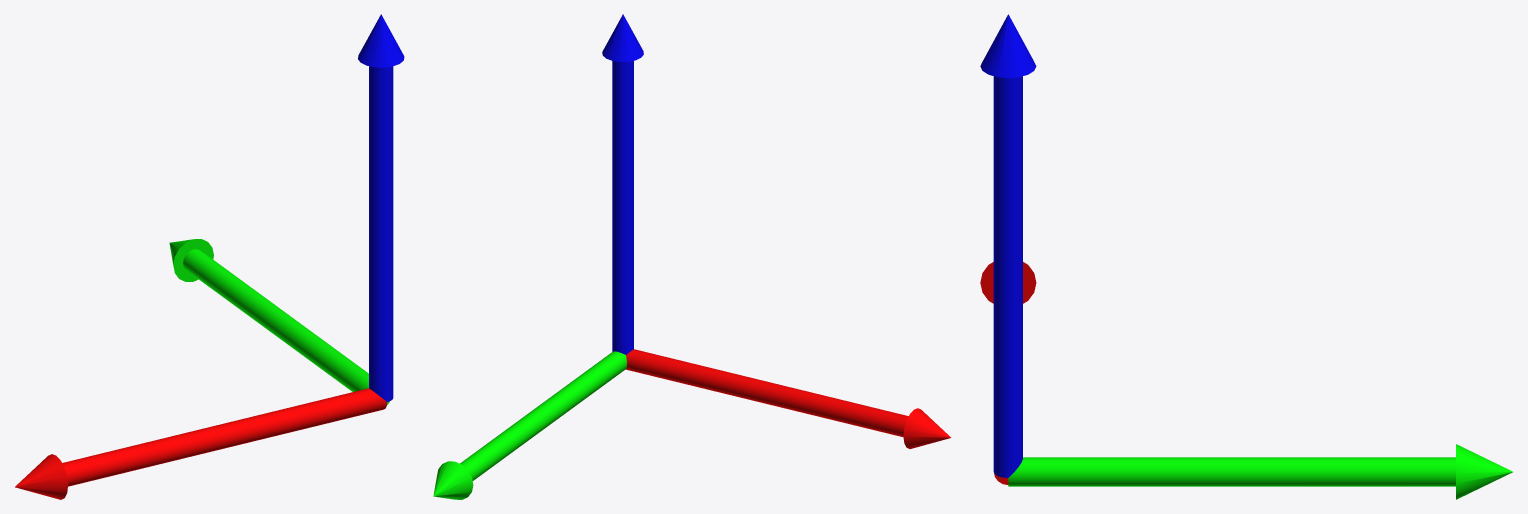
Rendered from UnityAxis_1M.fbx.
3 views of the same model, side by side, from view 1: azimuth 30°, elevation 25°; view 2: azimuth 150°, elevation 25°; view 3: azimuth 270°, elevation 25° (orthographic). The views are drawn at different scales.
Visible parts, largest first — view 1: Axis; view 2: Axis; view 3: Axis.
Boxes of the visible parts, left/top/right/bottom form: Axis: left=15, top=14, right=404, bottom=499; Axis: left=433, top=14, right=951, bottom=499; Axis: left=980, top=14, right=1512, bottom=499.
Size of the model in its own units: 1 by 1 by 1.
